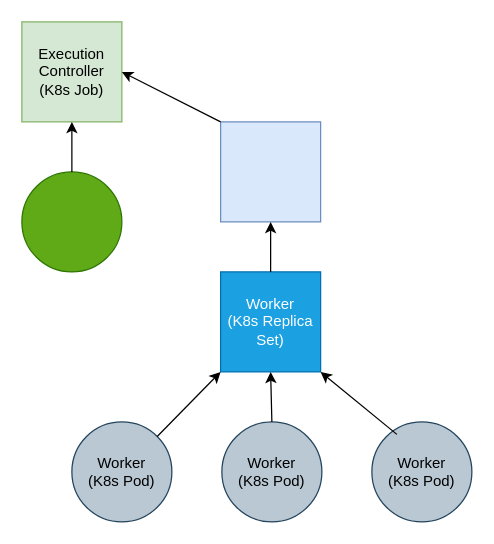
Some shapes in this 494 by 544 pixel diagram are drawn without their labels. The centre of each missing label's shape, as x and y in pixels:
Execution Controller (K8s Pod): the point at 71,221
Worker (K8s Deployment): the point at 270,171
